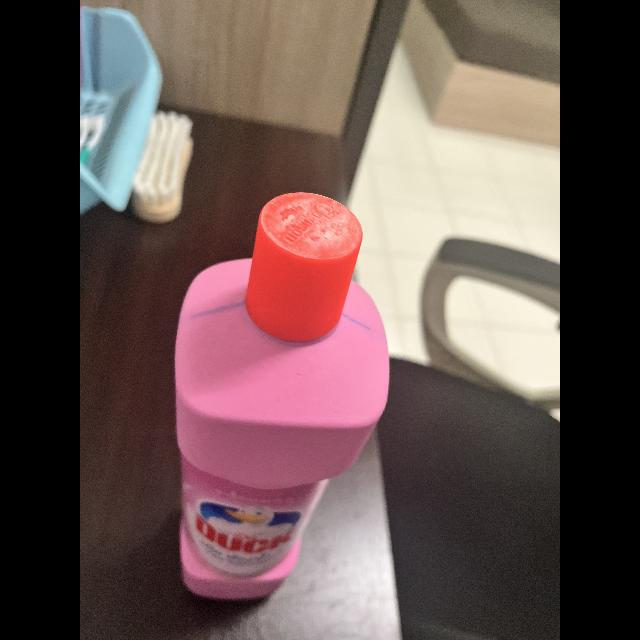chemical_plastic_bottle: (162, 184, 394, 604)
